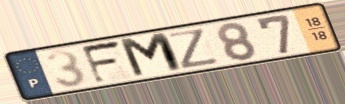3: (46, 48, 87, 91)
7: (253, 13, 293, 55)
8: (215, 21, 260, 62)
F: (79, 38, 125, 86)
M: (116, 30, 188, 80)
Z: (165, 26, 223, 71)
